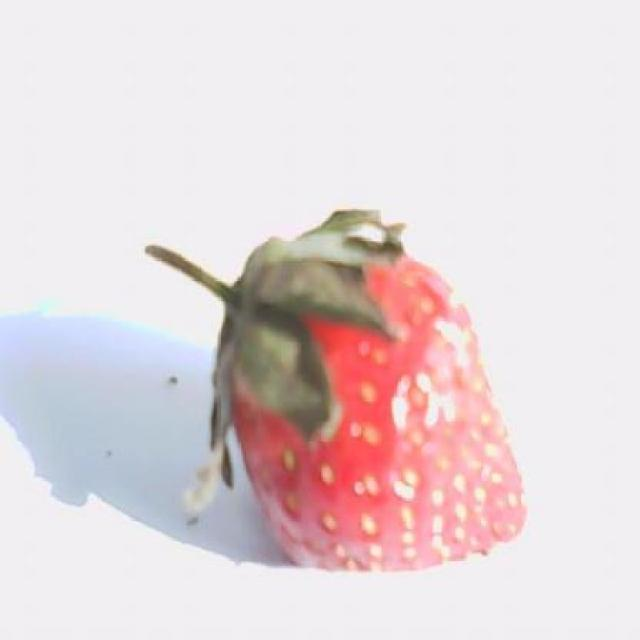strawberry: (146, 211, 522, 569)
